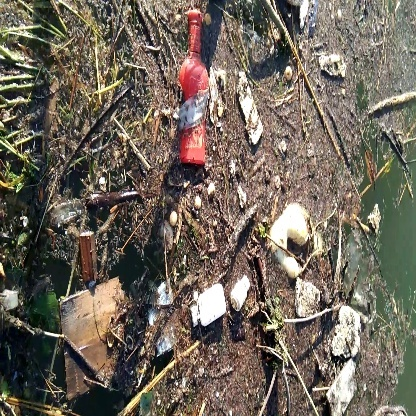bottle: (177, 7, 217, 169)
branch: (305, 83, 356, 168)
